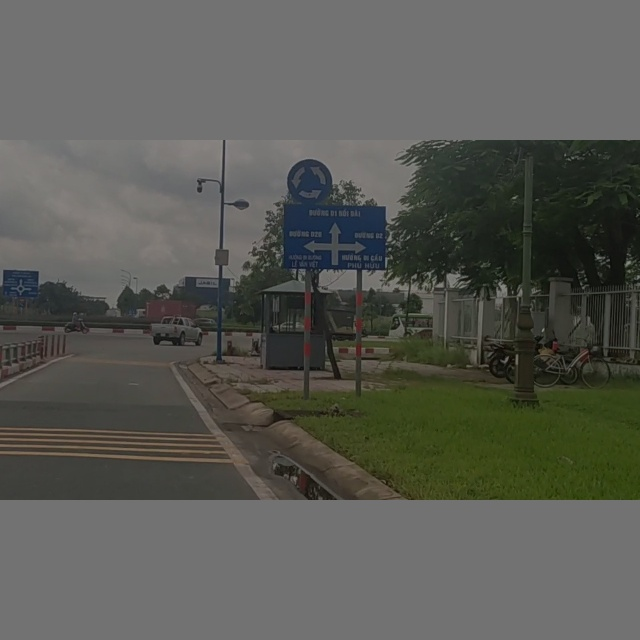R.303: (285, 156, 335, 203)
